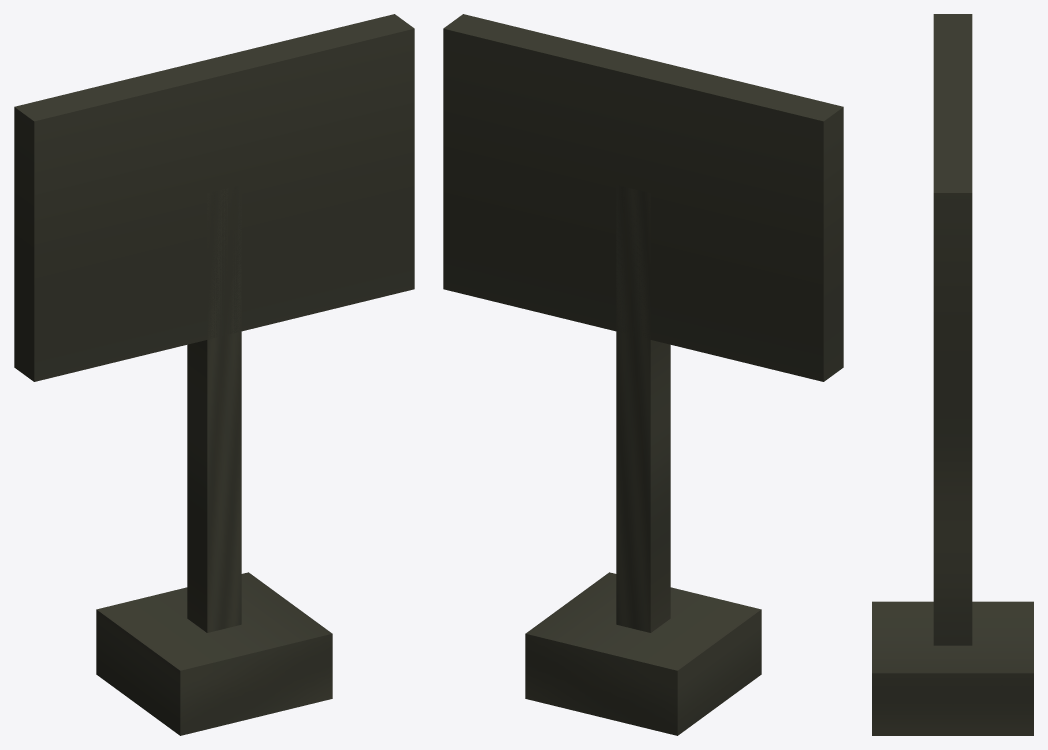
File: prop_roadblock_sign_chevron_a.glb
The picture shows the model from 3 angles, left to right: view 1: azimuth 30°, elevation 25°; view 2: azimuth 150°, elevation 25°; view 3: azimuth 270°, elevation 25°; orthographic projection. The views are drawn at different scales.
Visible parts, largest first — view 1: prop_roadblock_sign_chevron_a; view 2: prop_roadblock_sign_chevron_a; view 3: prop_roadblock_sign_chevron_a.
Boxes of the visible parts, left/top/right/bottom form: prop_roadblock_sign_chevron_a: left=14, top=14, right=414, bottom=735; prop_roadblock_sign_chevron_a: left=443, top=14, right=843, bottom=735; prop_roadblock_sign_chevron_a: left=872, top=14, right=1033, bottom=735.
Bounding box in the file's own units: 1.1 × 1.77 × 0.42.
Materials: 1 (1 with a texture image).
